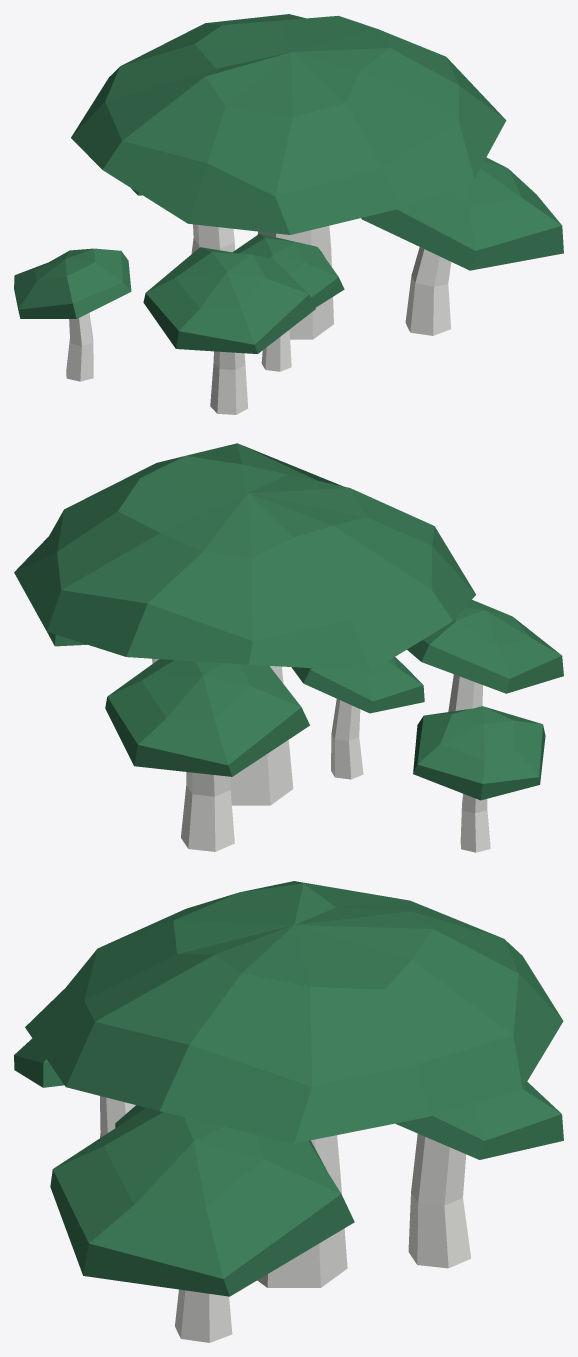
File: green_russule.fbx
3 views of the same model, one above another, from view 1: azimuth 30°, elevation 25°; view 2: azimuth 150°, elevation 25°; view 3: azimuth 270°, elevation 25° (orthographic). The views are drawn at different scales.
Parts seen in each view (by area): view 1: green_russule; view 2: green_russule; view 3: green_russule.
Boxes of the visible parts, left/top/right/bottom form: green_russule: left=14, top=14, right=563, bottom=414; green_russule: left=14, top=443, right=563, bottom=852; green_russule: left=14, top=881, right=563, bottom=1342.
Bounding box in the file's own units: 75.2 × 40.13 × 58.25.
Materials: 1 (1 with a texture image).
